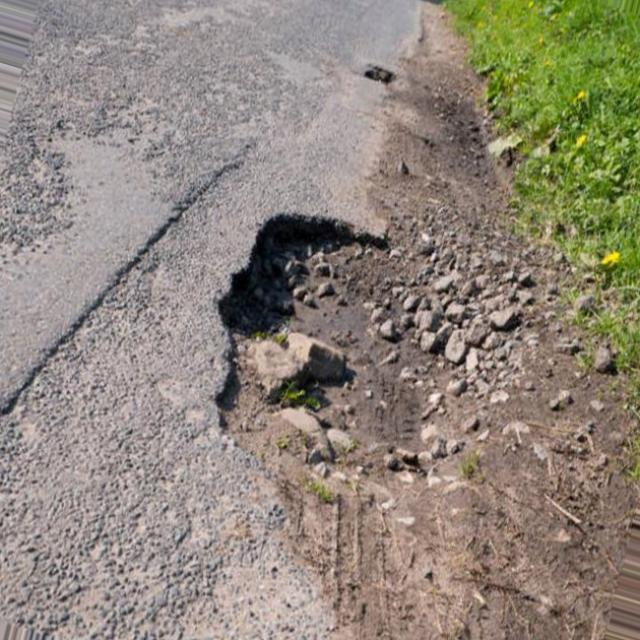Pinggir: (189, 208, 419, 584)
